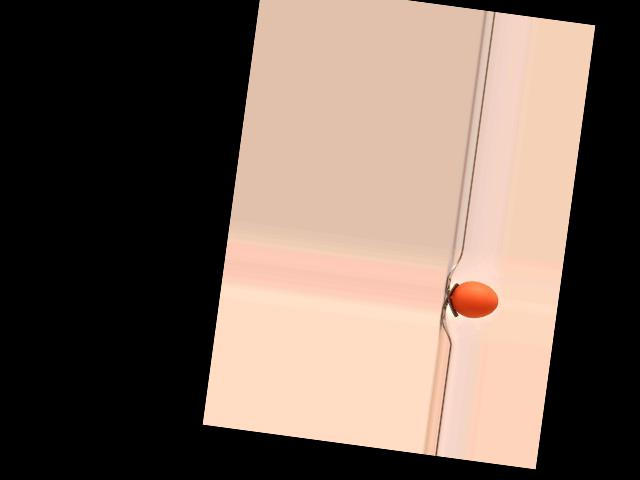egg: (449, 278, 500, 320)
